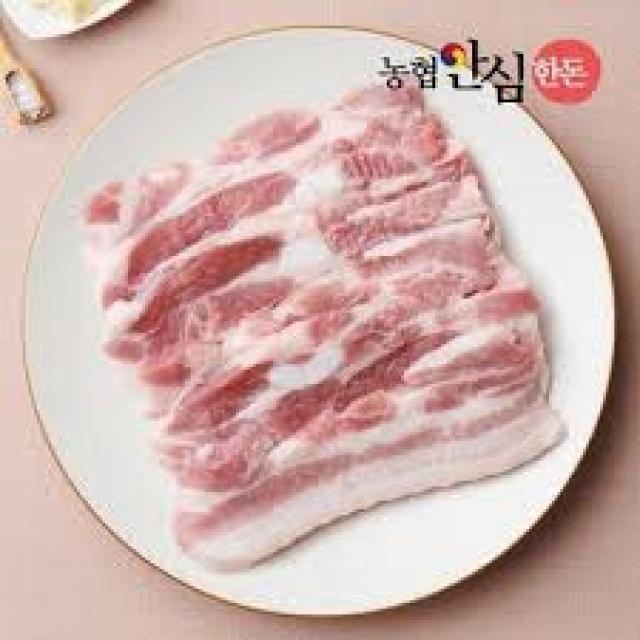Pork: (158, 317, 562, 570)
